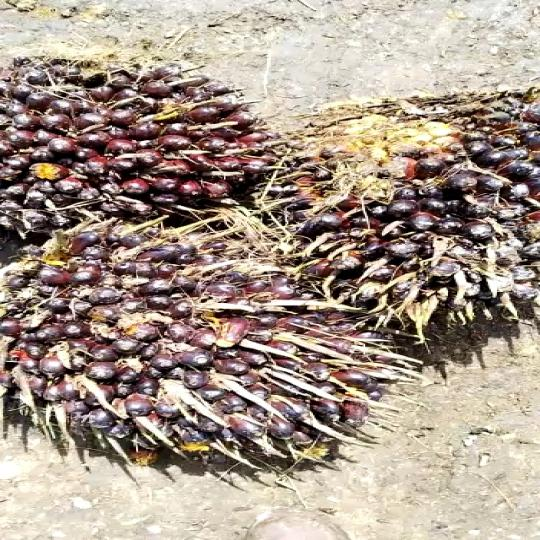kurang masak: (259, 93, 540, 311), (0, 47, 259, 232)
